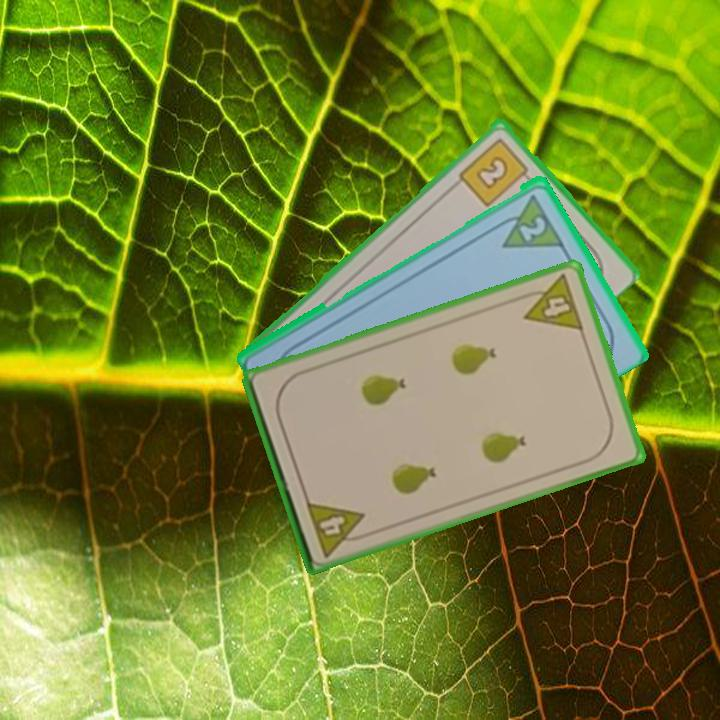2b: (455, 134, 535, 209)
2p: (515, 212, 549, 244)
4p: (514, 271, 587, 334), (302, 497, 373, 560)
